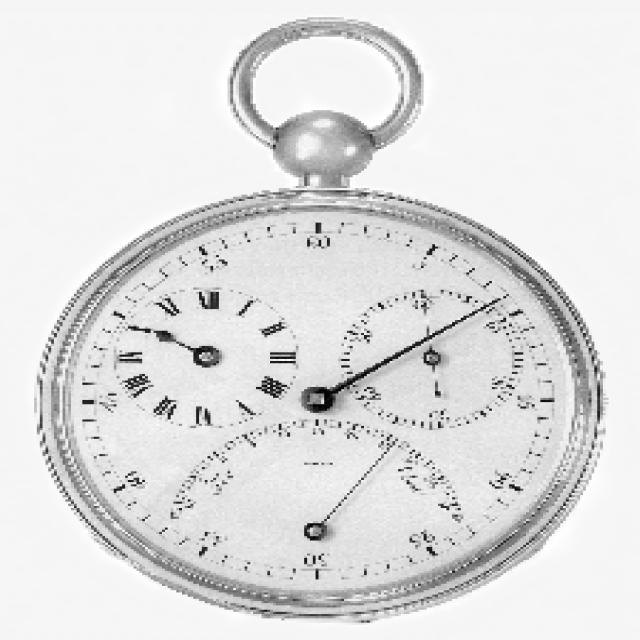number_60: (300, 220, 342, 258)
